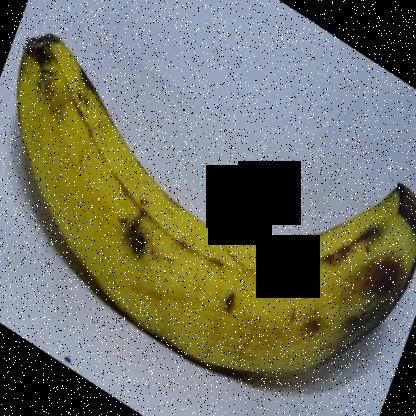ripe: (11, 24, 415, 406)
